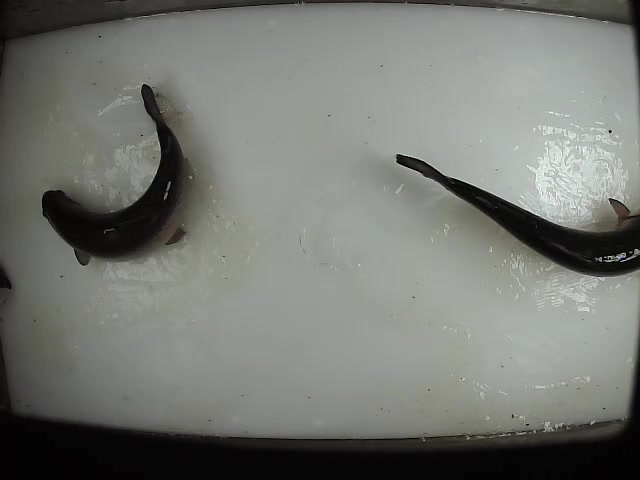fish: (391, 149, 640, 282), (39, 82, 189, 268)
